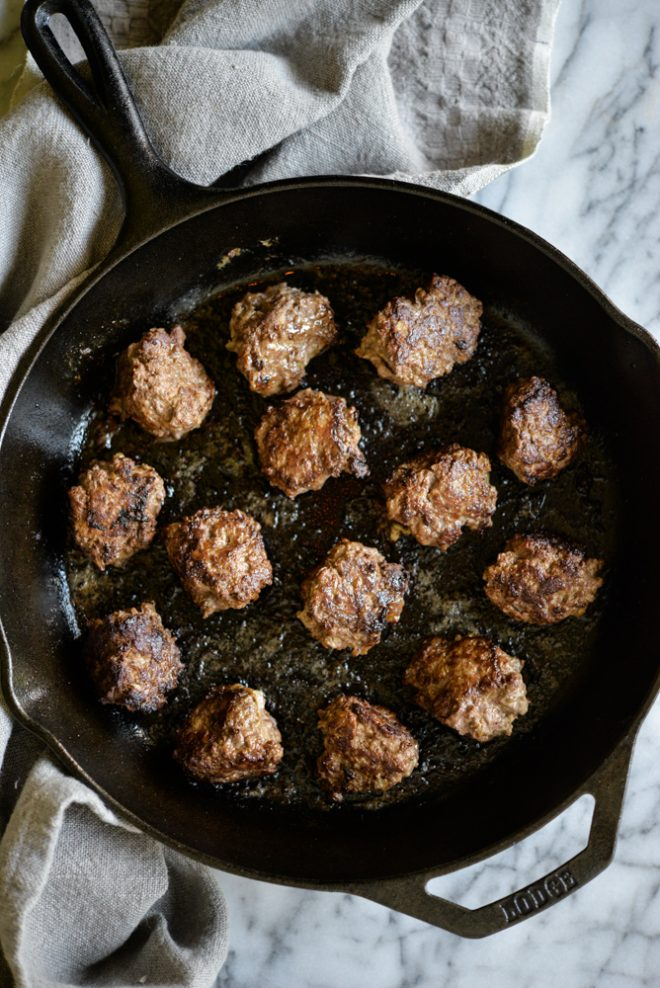meatballs: (399, 635, 528, 733), (372, 283, 479, 389), (253, 394, 360, 497), (294, 552, 406, 649), (471, 536, 593, 623), (177, 682, 283, 782), (110, 341, 214, 438), (314, 700, 420, 789), (224, 294, 335, 376), (171, 519, 269, 611), (57, 464, 155, 553), (390, 447, 490, 532), (503, 378, 574, 493), (90, 615, 181, 704)
